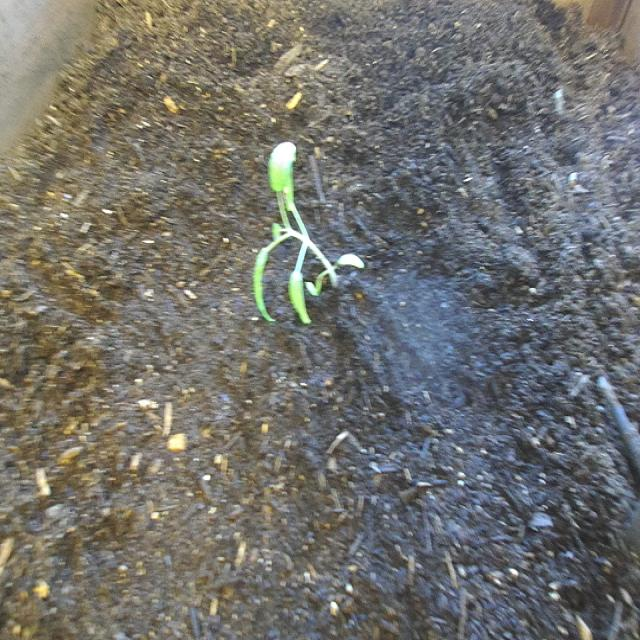Healthy: (254, 140, 367, 330)
